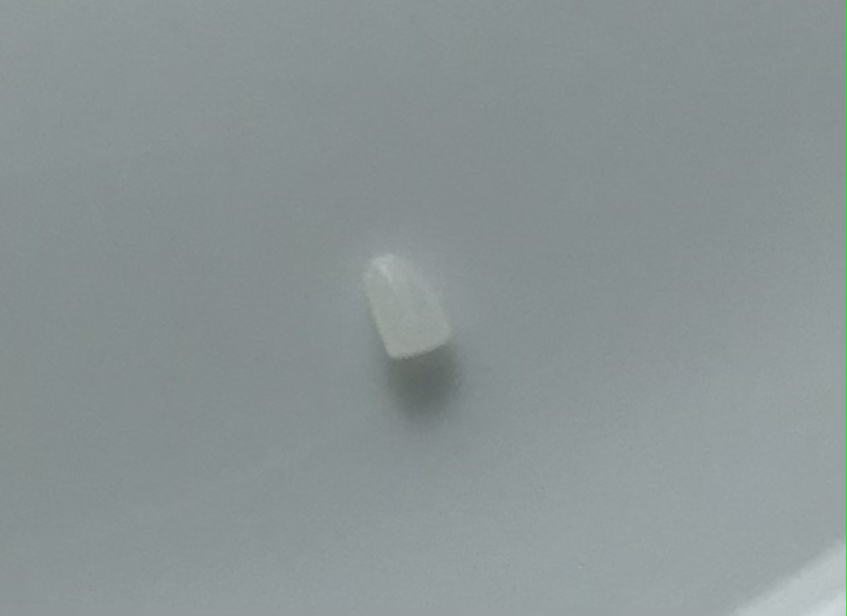Gao Tam: (358, 235, 455, 362)
